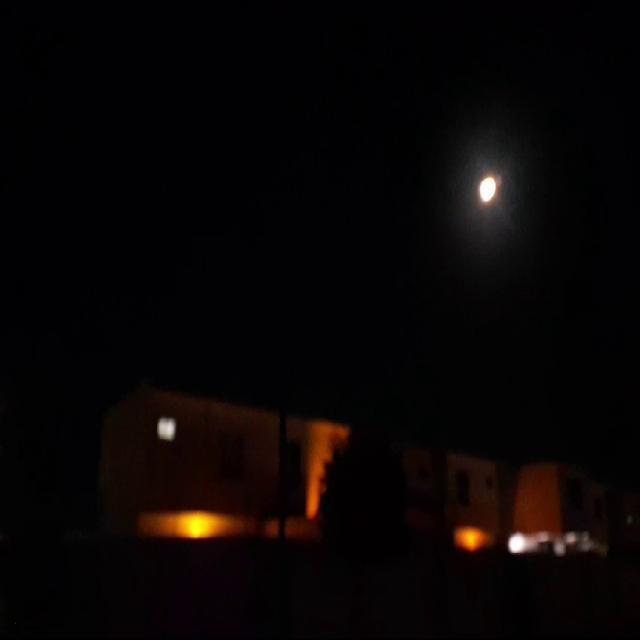moon: (460, 180, 483, 214)
